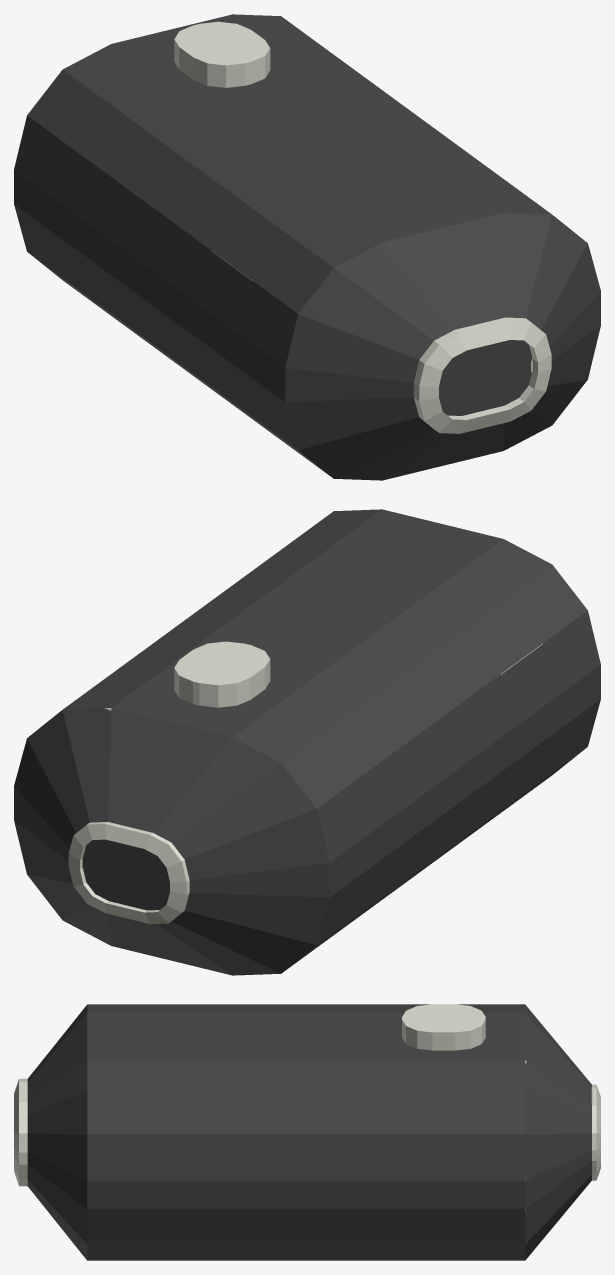
The model's file is Deposito.fbx.
3 views of the same model, one above another, from view 1: azimuth 30°, elevation 25°; view 2: azimuth 150°, elevation 25°; view 3: azimuth 270°, elevation 25° (orthographic). The views are drawn at different scales.
Parts seen in each view (by area): view 1: Cube; view 2: Cube; view 3: Cube.
Part boxes in pixels (x1,y1,x2,y2): Cube: [14, 14, 600, 480]; Cube: [14, 509, 600, 975]; Cube: [14, 1004, 600, 1260].
Size of the model in its own units: 1082 by 853 by 2157.
1 material, 1 textured.
